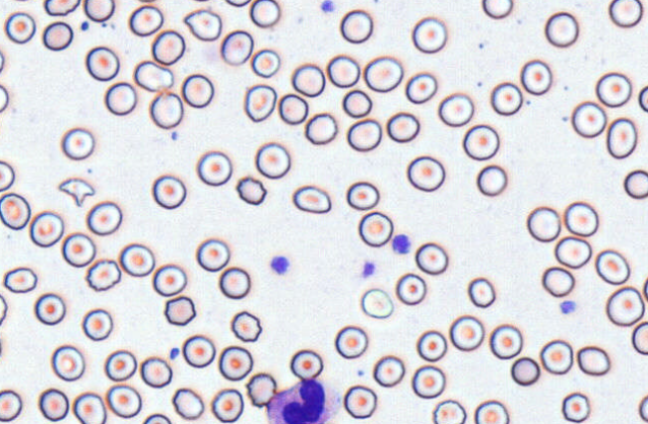GRAN: (267, 380, 343, 424)
PLT: (391, 233, 413, 255), (269, 255, 290, 277), (558, 299, 577, 315), (361, 260, 376, 280), (321, 0, 335, 14), (169, 348, 180, 360), (171, 130, 179, 142), (80, 21, 90, 30)
RBC: (605, 285, 644, 326), (363, 55, 403, 92), (406, 155, 445, 192), (571, 100, 607, 138), (254, 141, 290, 179), (462, 124, 499, 160), (411, 16, 447, 53), (595, 71, 632, 107), (149, 90, 183, 129), (606, 117, 637, 159), (196, 150, 232, 186), (50, 344, 85, 381), (449, 314, 484, 351), (29, 210, 64, 247), (437, 92, 474, 127), (526, 205, 561, 242), (358, 210, 393, 247), (243, 83, 276, 122), (218, 345, 253, 381), (86, 200, 122, 235), (595, 249, 630, 285), (544, 11, 579, 47), (554, 235, 592, 268), (61, 232, 96, 267), (151, 174, 186, 209), (563, 201, 598, 236), (151, 29, 185, 65), (346, 117, 382, 151), (85, 45, 119, 81), (343, 384, 377, 419), (210, 388, 244, 423), (106, 384, 141, 418), (539, 339, 573, 374), (119, 243, 154, 277), (85, 258, 121, 291), (489, 323, 522, 359), (220, 29, 253, 65), (0, 192, 31, 230), (411, 364, 445, 398), (334, 325, 368, 359), (414, 241, 448, 275), (196, 237, 230, 271), (291, 63, 325, 97), (326, 54, 360, 88), (339, 9, 373, 43), (152, 263, 187, 296), (181, 73, 214, 108), (520, 59, 552, 95), (292, 184, 331, 213), (72, 391, 106, 424), (182, 334, 215, 368), (304, 112, 338, 145), (104, 81, 137, 115), (60, 127, 94, 160), (245, 372, 277, 407), (128, 4, 163, 36), (171, 387, 204, 420), (3, 11, 36, 44), (490, 81, 522, 115), (372, 355, 405, 387), (104, 349, 137, 381), (81, 308, 113, 341), (218, 266, 250, 299), (289, 349, 323, 380), (38, 387, 69, 421), (576, 345, 610, 376), (386, 111, 420, 142), (230, 310, 262, 342), (140, 356, 172, 388), (405, 72, 437, 104), (360, 287, 393, 318), (416, 329, 447, 362), (395, 272, 426, 305), (541, 266, 574, 297), (34, 292, 65, 325), (476, 164, 507, 196), (346, 180, 379, 210), (277, 93, 308, 124), (608, 0, 643, 27), (235, 175, 266, 205), (3, 266, 37, 293), (510, 356, 540, 386), (250, 48, 280, 78), (561, 391, 590, 422), (42, 21, 73, 50), (467, 276, 495, 307), (431, 399, 466, 423), (474, 399, 509, 423), (342, 89, 372, 117), (249, 0, 280, 27), (623, 169, 647, 199), (0, 389, 22, 421), (83, 0, 115, 22), (481, 0, 513, 19), (43, 0, 80, 16), (631, 321, 647, 355), (0, 160, 15, 192), (142, 413, 171, 424), (638, 394, 648, 422), (638, 85, 648, 112), (0, 84, 9, 113), (0, 293, 7, 325), (224, 0, 251, 7), (642, 274, 648, 302), (0, 48, 4, 73), (0, 333, 3, 362), (134, 0, 160, 3), (0, 115, 3, 140), (188, 0, 213, 2), (9, 0, 35, 1)
Schistocyte: (134, 61, 174, 91), (183, 11, 223, 41), (59, 179, 94, 206), (165, 297, 195, 325)
